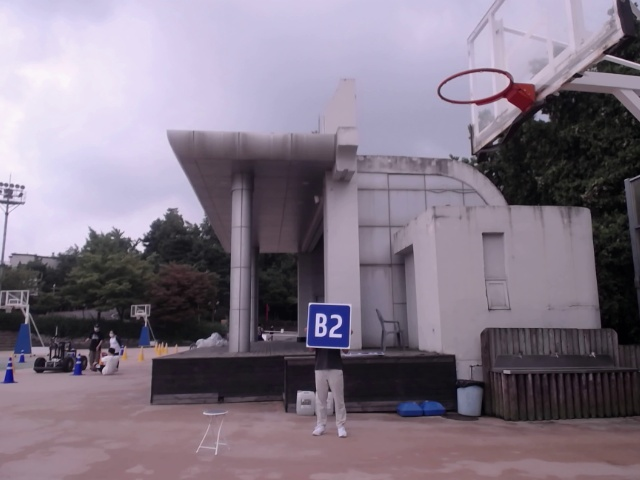delivery_b2: (307, 301, 350, 349)
